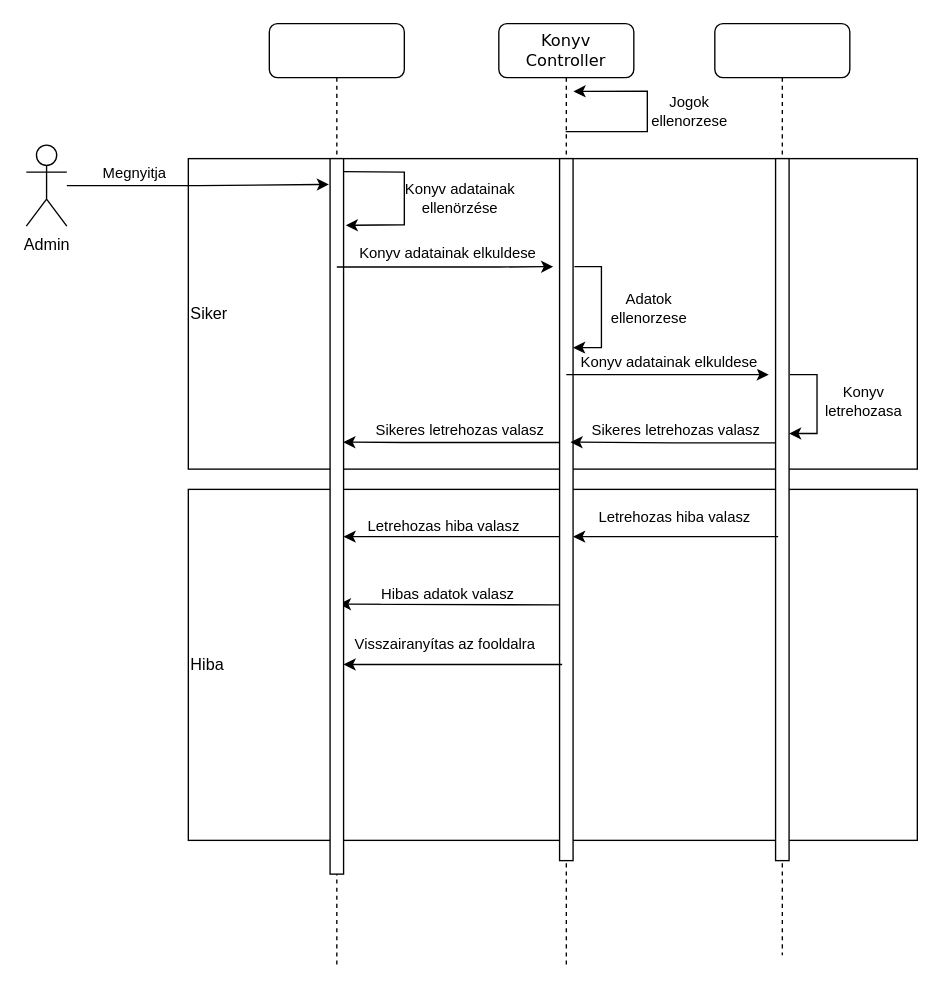
This 941x992 diagram has some shape labels left out. The box of each missing label's shape, as (x1, y1, x2, y2) in pixels:
Konyv DAO: (713, 22, 850, 955)
Letrehozas View: (268, 22, 404, 969)
